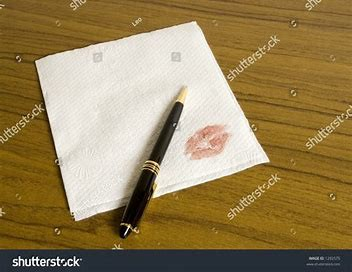pen: (114, 83, 190, 242)
